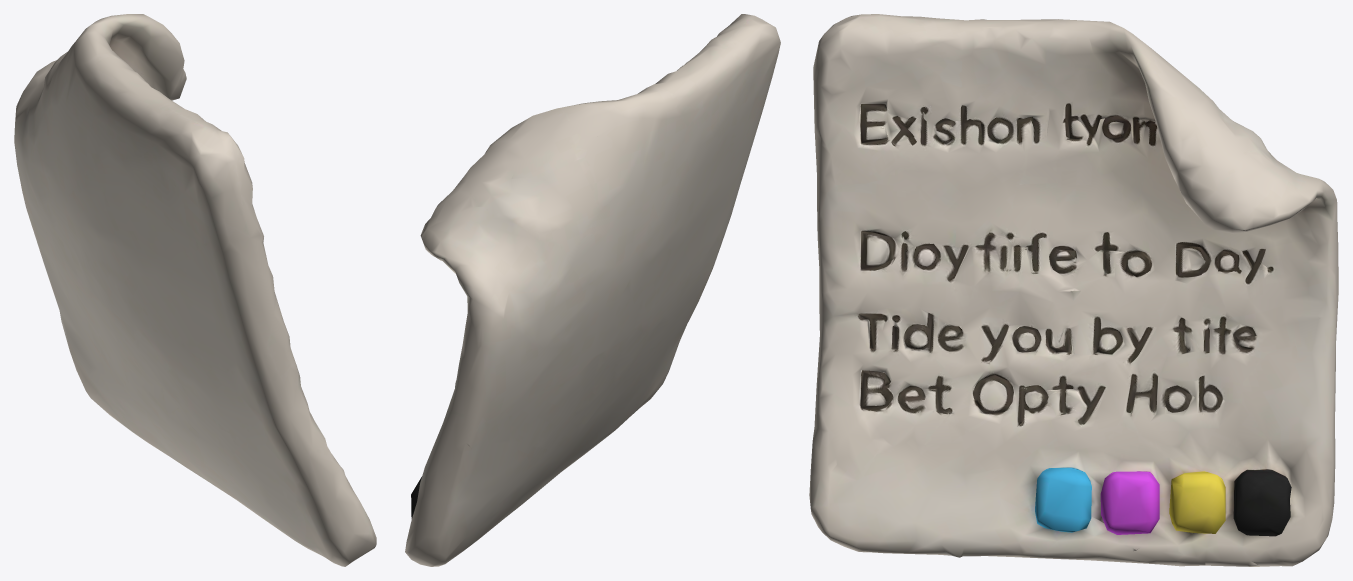
Rendered from paper_sheet.glb.
The picture shows the model from 3 angles, left to right: view 1: azimuth 30°, elevation 25°; view 2: azimuth 150°, elevation 25°; view 3: azimuth 270°, elevation 25°; orthographic projection. The views are drawn at different scales.
Visible parts, largest first — view 1: tripo_node_e0eefe74-3aa1-47a1-bfea-677b3922351a; view 2: tripo_node_e0eefe74-3aa1-47a1-bfea-677b3922351a; view 3: tripo_node_e0eefe74-3aa1-47a1-bfea-677b3922351a.
Boxes of the visible parts, box(x1,y1,x2,y2) form: tripo_node_e0eefe74-3aa1-47a1-bfea-677b3922351a: box(14, 14, 376, 566); tripo_node_e0eefe74-3aa1-47a1-bfea-677b3922351a: box(405, 14, 780, 566); tripo_node_e0eefe74-3aa1-47a1-bfea-677b3922351a: box(809, 14, 1338, 566).
Size of the model in its own units: 0.4131 by 0.9982 by 1.
Materials: 1 (1 with a texture image).
